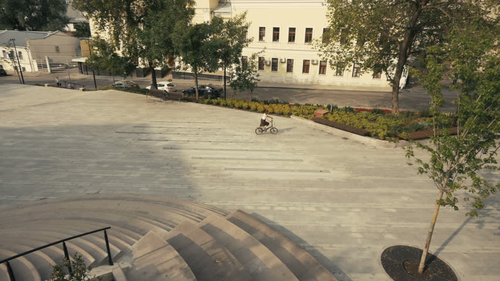bikerider: (252, 108, 279, 137)
